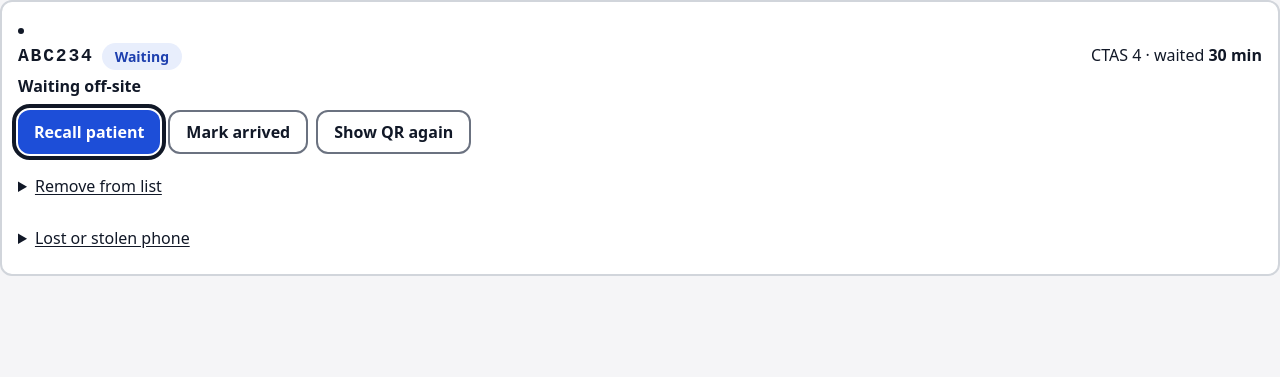
it: VisitRow recall › after a slow save that ends refused, focus is on Recall patient
Click the button "Recall patient" at (89, 132), box [18, 110, 160, 154]
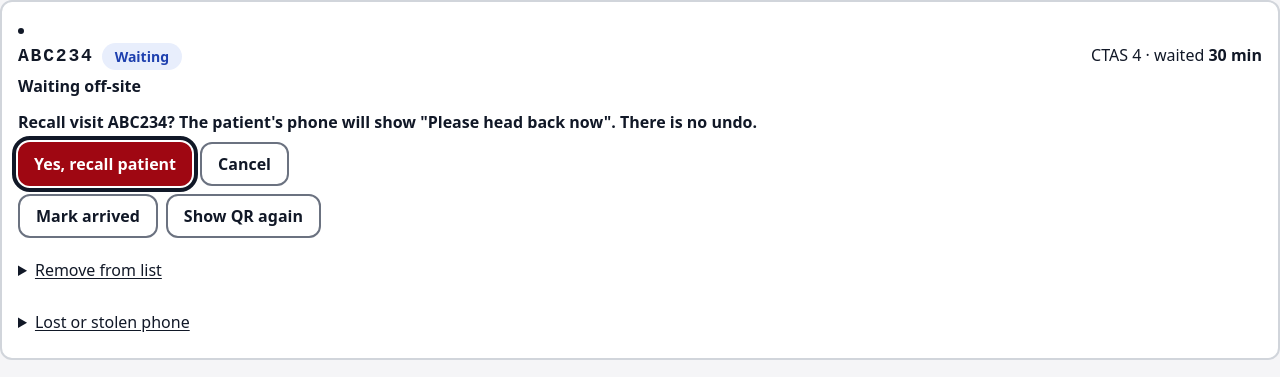
Click the button "Yes, recall patient" at (105, 164), box [18, 142, 192, 186]
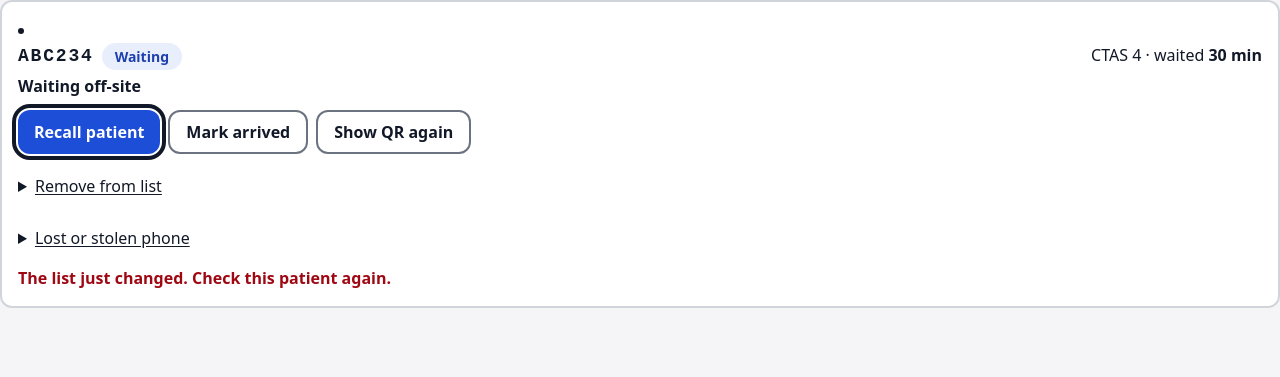
Now the text "The list just changed" is shown, box [18, 267, 391, 289]
